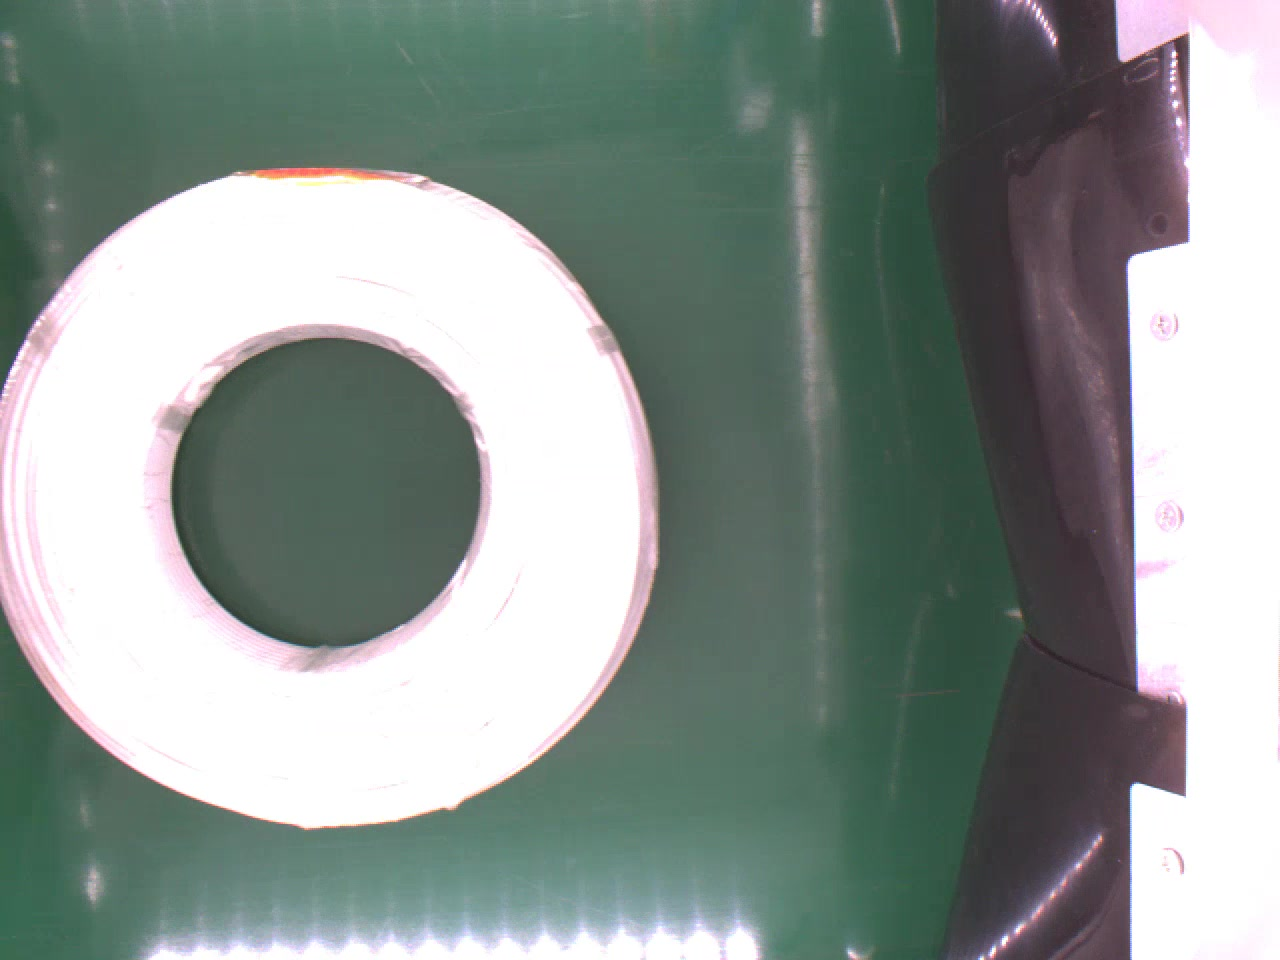white: (0, 164, 661, 829)
